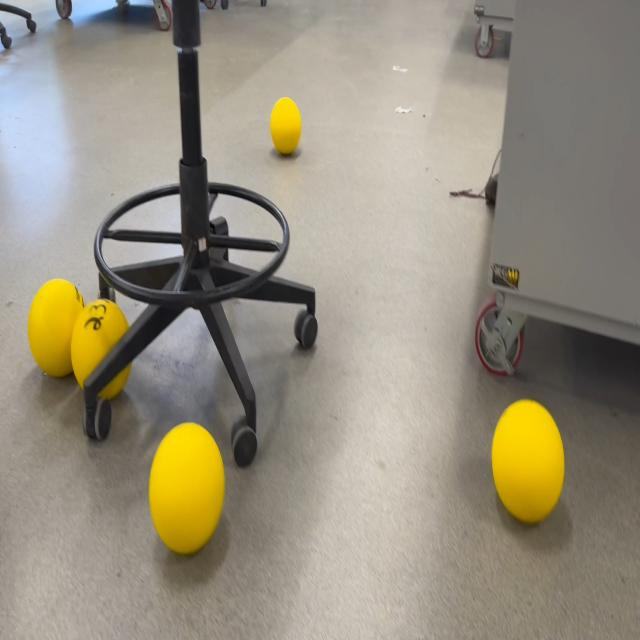Fuel: (148, 422, 225, 556), (491, 399, 565, 524), (70, 298, 133, 402), (28, 278, 87, 378), (270, 97, 302, 156)
